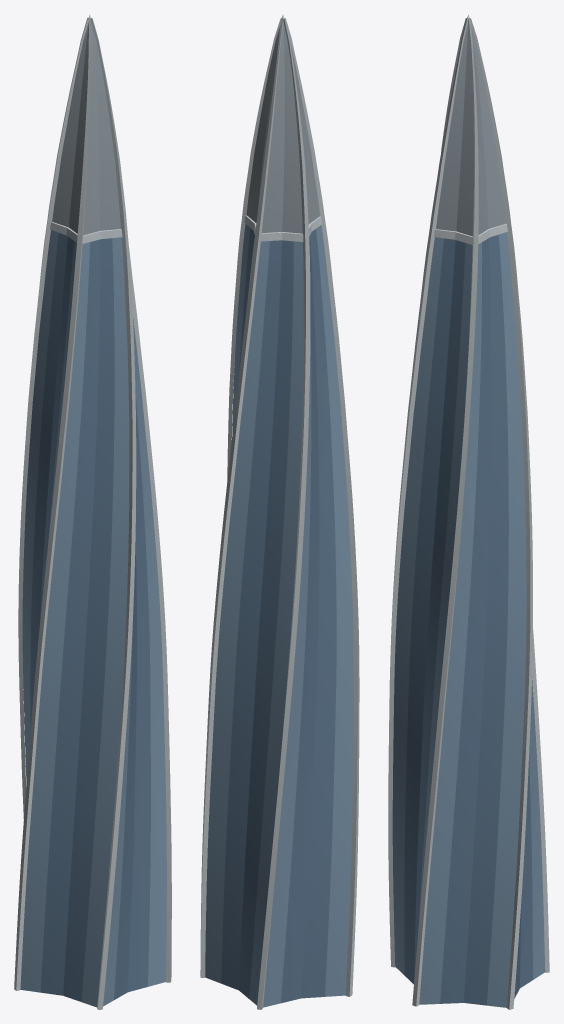
Rendered from spb-lakhta-center.glb.
3 renders of one model, left to right at view 1: azimuth 30°, elevation 25°; view 2: azimuth 150°, elevation 25°; view 3: azimuth 270°, elevation 25°, orthographic.
Visible parts, largest first — view 1: Lakhta Center; view 2: Lakhta Center; view 3: Lakhta Center.
Part boxes in pixels (bbox=[...]): Lakhta Center: bbox=[14, 14, 171, 1009]; Lakhta Center: bbox=[200, 14, 359, 1009]; Lakhta Center: bbox=[388, 14, 549, 1009].
Bounding box in the file's own units: 68.25 × 462 × 70.04.
